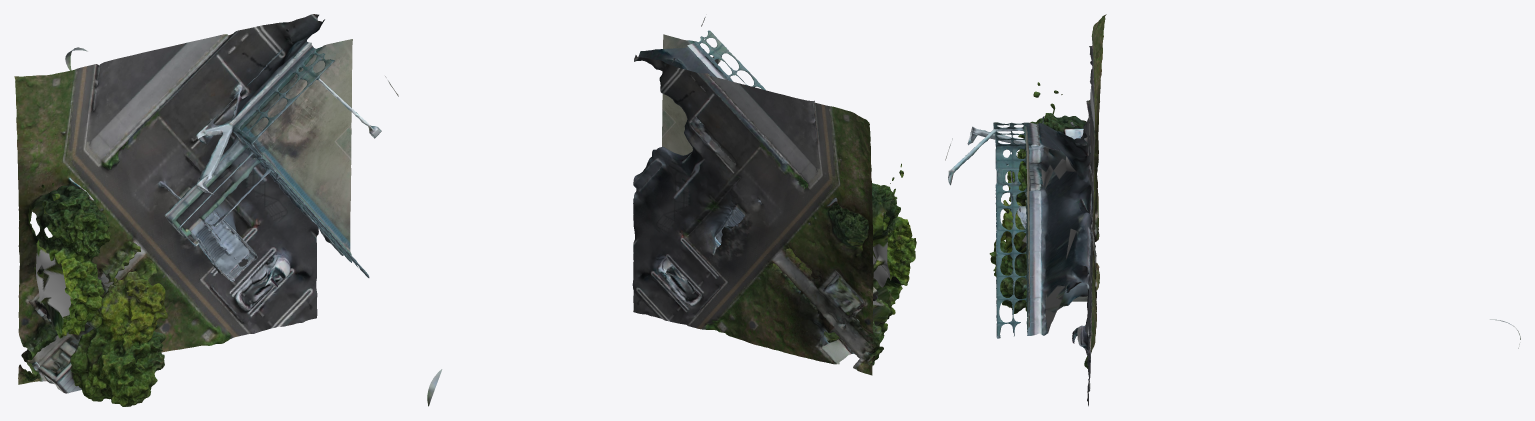
File: Tile_+016_+018.fbx
3 views of the same model, side by side, from view 1: azimuth 30°, elevation 25°; view 2: azimuth 150°, elevation 25°; view 3: azimuth 270°, elevation 25° (orthographic). The views are drawn at different scales.
Visible parts, largest first — view 1: DefaultName; view 2: DefaultName; view 3: DefaultName.
Part boxes in pixels (x1=…): DefaultName: x1=14, y1=14, x2=398, y2=406; DefaultName: x1=427, y1=17, x2=916, y2=406; DefaultName: x1=945, y1=14, x2=1520, y2=406.
Bounding box in the file's own units: 22.54 × 22.54 × 43.85.
